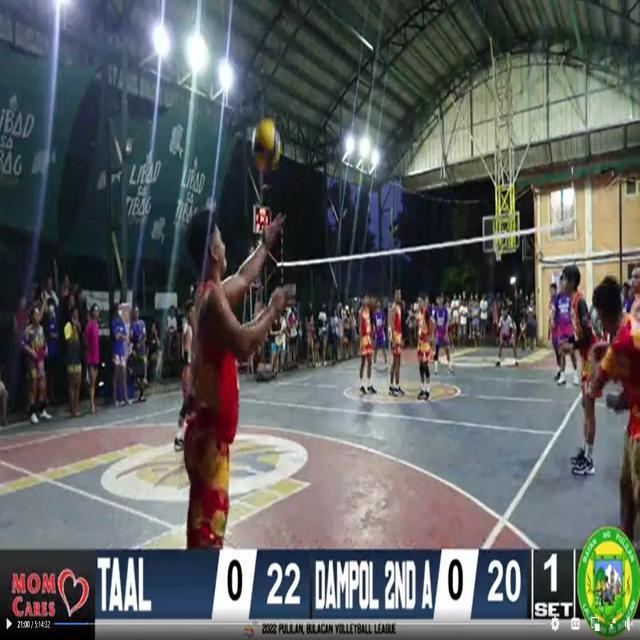volleyball: (252, 120, 282, 174)
